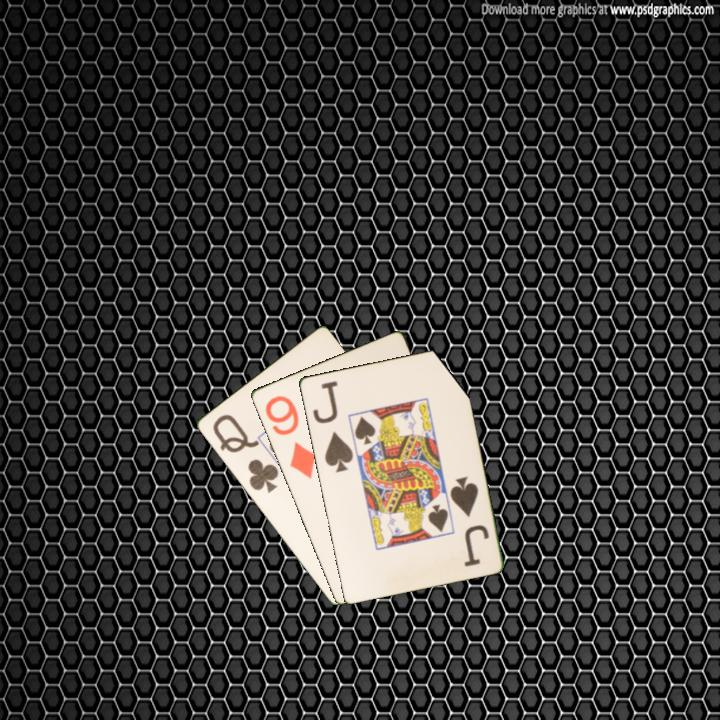9d: (261, 392, 319, 482)
Js: (309, 377, 356, 475), (446, 473, 492, 569)
Qc: (209, 410, 281, 496)
